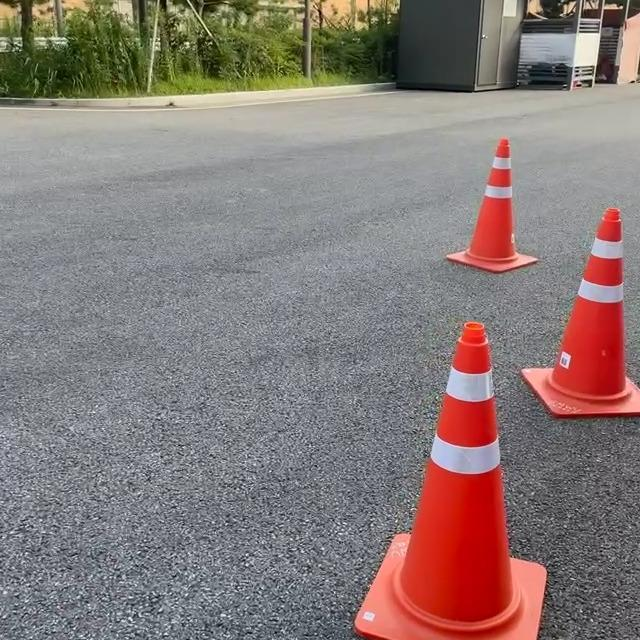fallen_object: (310, 317, 579, 640), (507, 182, 640, 425), (426, 123, 536, 263)
